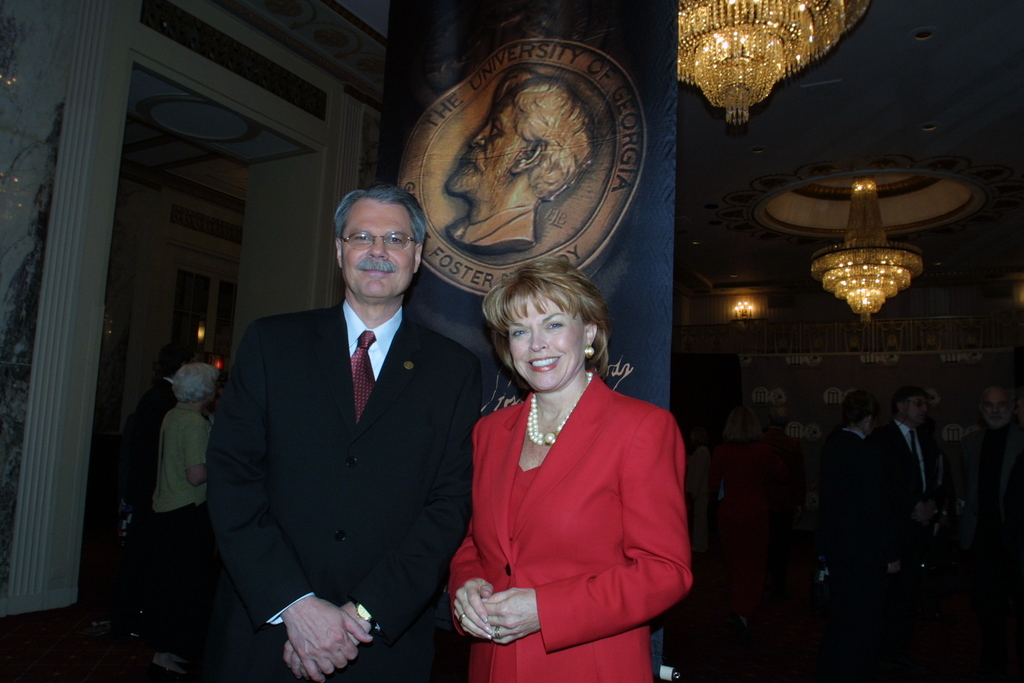Human-face: (436, 99, 530, 201), (505, 293, 588, 390), (345, 198, 414, 293)
